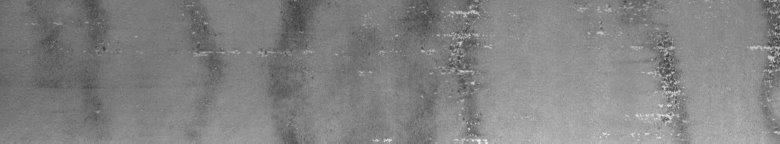hc: (578, 4, 688, 128)
